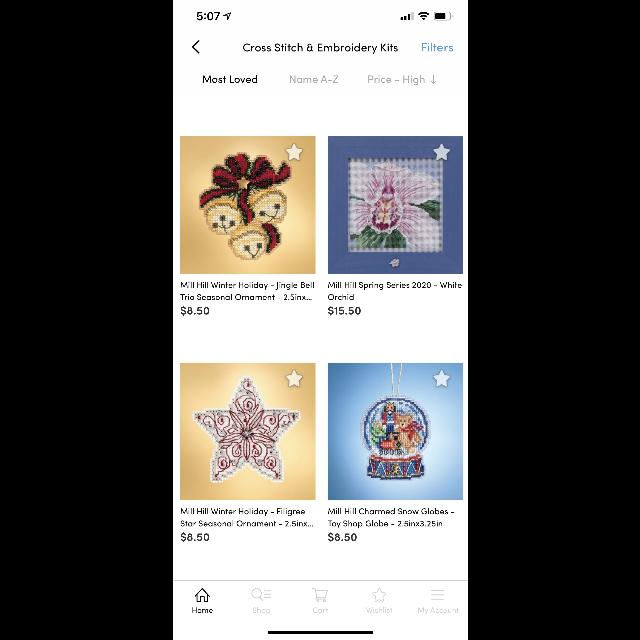icon: (284, 143, 302, 161), (432, 369, 450, 386), (432, 144, 450, 160), (286, 369, 302, 386), (251, 588, 271, 600), (311, 588, 327, 602), (372, 588, 386, 602), (194, 588, 208, 602), (431, 590, 444, 600), (192, 40, 198, 54), (431, 76, 435, 84)
image: (328, 362, 462, 500), (180, 362, 314, 500), (328, 136, 462, 274), (180, 136, 314, 274)
text: (327, 508, 453, 528), (327, 282, 461, 300), (180, 508, 312, 526), (180, 282, 312, 300), (242, 44, 398, 54), (368, 75, 424, 85), (202, 75, 256, 83), (328, 306, 360, 316), (422, 42, 452, 52), (290, 76, 338, 82), (328, 532, 356, 542), (180, 532, 208, 542), (180, 306, 208, 316), (418, 608, 458, 614), (366, 607, 392, 613), (252, 608, 270, 614), (192, 608, 212, 612), (312, 608, 328, 612)
uppertaskbar: (196, 12, 452, 20)
